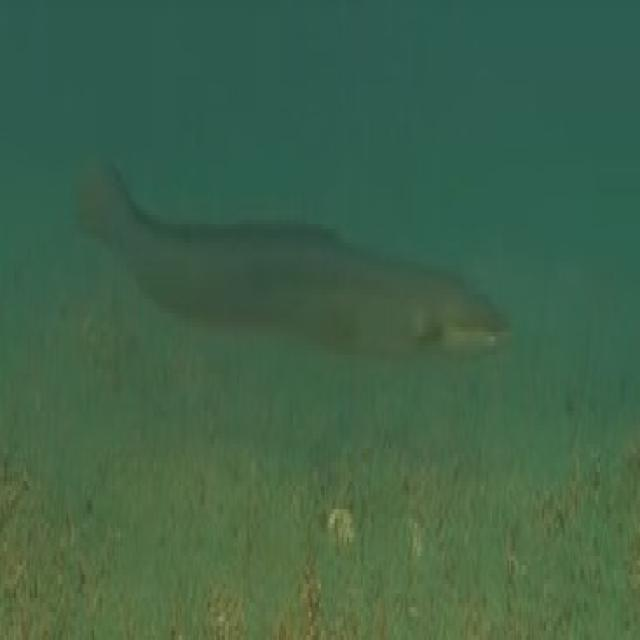Freshwater-Eel: (67, 61, 530, 433)
